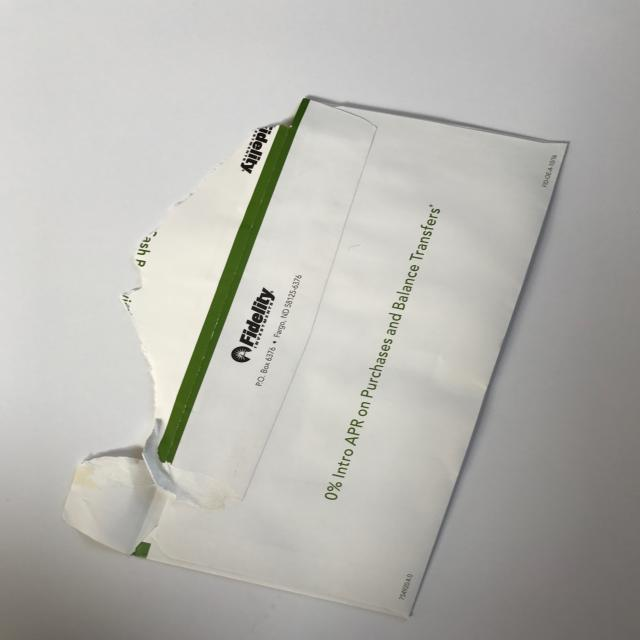paper: (40, 75, 581, 638)
